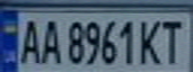1: (115, 17, 139, 65)
6: (100, 17, 121, 65)
8: (63, 16, 84, 65)
9: (81, 17, 103, 65)
A: (15, 16, 45, 65), (36, 16, 63, 65)
K: (136, 16, 166, 65)
T: (157, 16, 190, 65)
